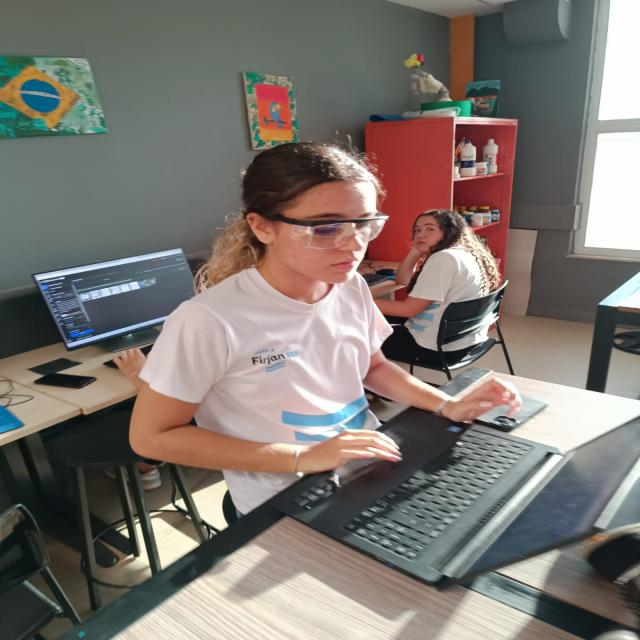oculos-epi: (272, 213, 391, 250)
sem_oculos: (408, 223, 453, 239)
